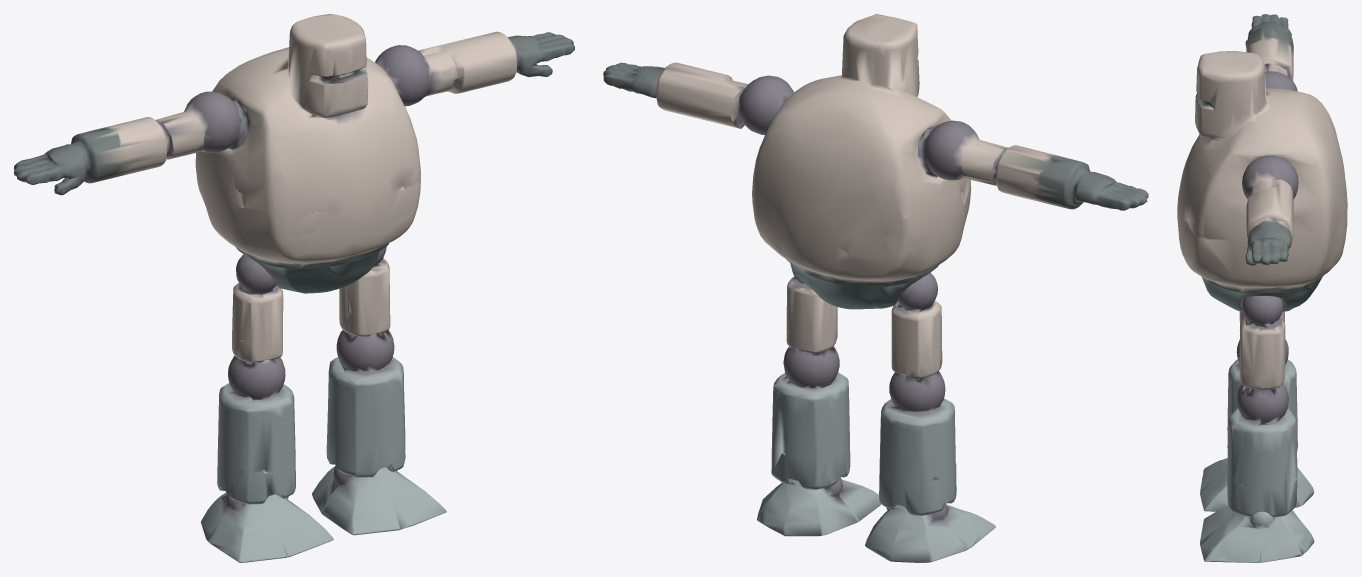
File: body.glb
3 views of the same model, side by side, from view 1: azimuth 30°, elevation 25°; view 2: azimuth 150°, elevation 25°; view 3: azimuth 270°, elevation 25° (orthographic). The views are drawn at different scales.
Parts seen in each view (by area): view 1: sentinel tripo; view 2: sentinel tripo; view 3: sentinel tripo.
Boxes of the visible parts, <box> form: sentinel tripo: <box>14,14,574,562</box>; sentinel tripo: <box>603,14,1148,562</box>; sentinel tripo: <box>1177,14,1347,562</box>.
Bounding box in the file's own units: 2.31 × 2 × 0.6739.
